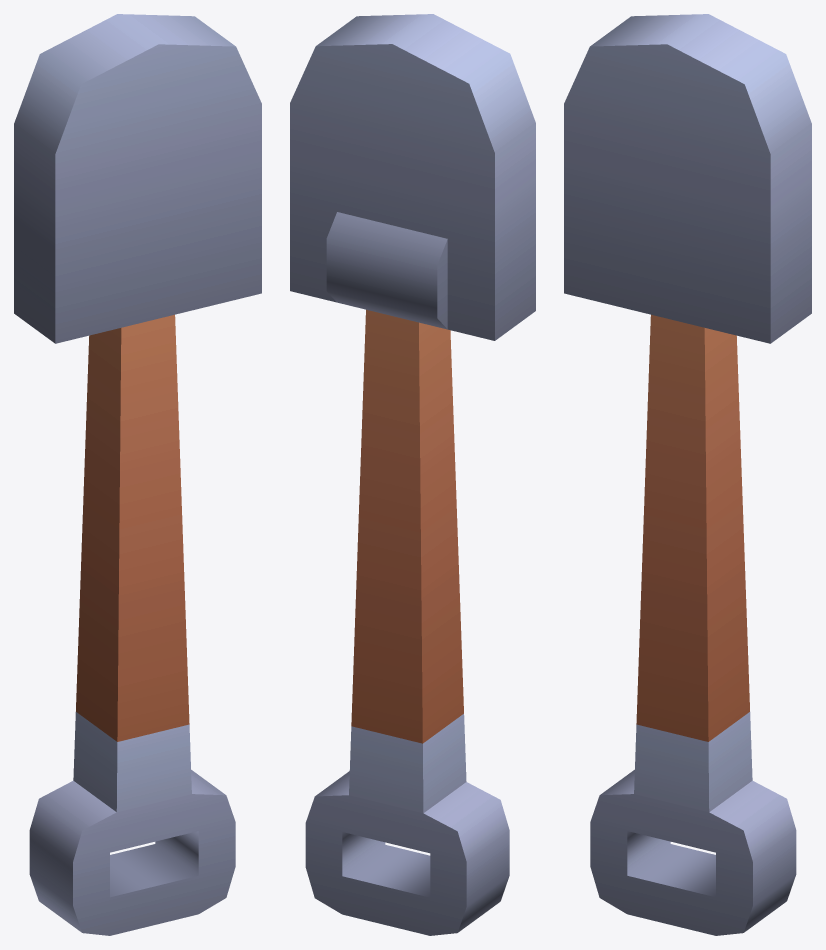
The model's file is k-survival-tool-shovel.glb.
The picture shows the model from 3 angles, left to right: view 1: azimuth 30°, elevation 25°; view 2: azimuth 150°, elevation 25°; view 3: azimuth 330°, elevation 25°; orthographic projection.
Parts seen in each view (by area): view 1: tool-shovel; view 2: tool-shovel; view 3: tool-shovel.
Part boxes in pixels (bbox=[...]): tool-shovel: bbox=[14, 14, 261, 935]; tool-shovel: bbox=[290, 14, 535, 935]; tool-shovel: bbox=[564, 14, 811, 935].
Bounding box in the file's own units: 0.0709 × 0.29 × 0.0309.
Materials: 1 (1 with a texture image).
